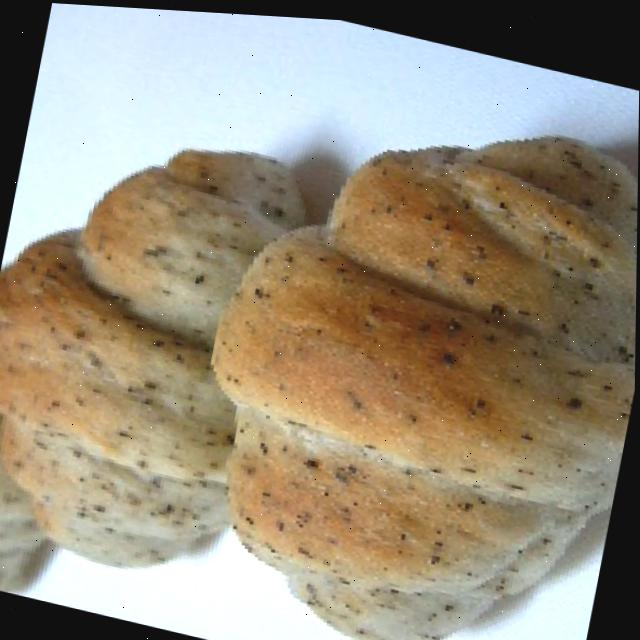面包点心: (156, 44, 640, 640)
